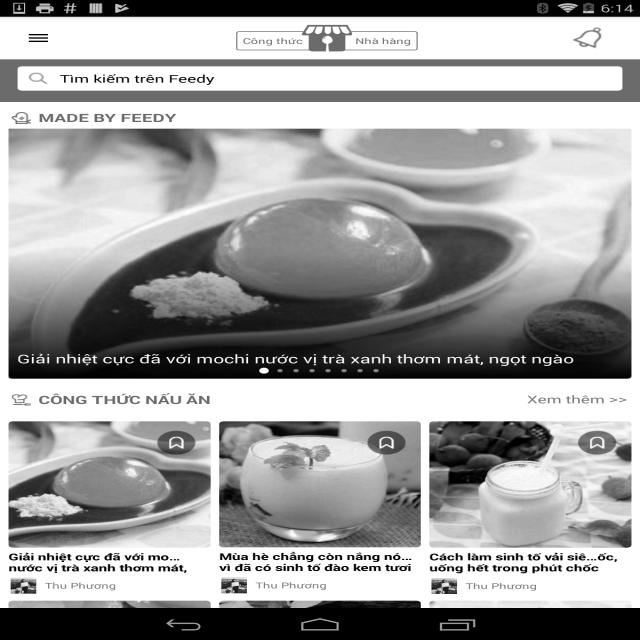EditText: (51, 66, 623, 91)
ImageButton: (9, 17, 68, 59)
ImageView: (9, 128, 632, 378), (429, 421, 632, 548), (8, 421, 210, 548), (219, 422, 421, 548), (8, 600, 210, 640), (429, 600, 631, 640), (219, 600, 420, 640), (300, 17, 354, 59), (151, 426, 202, 458), (361, 426, 412, 458), (572, 426, 623, 458), (151, 606, 202, 638), (361, 606, 412, 638), (572, 606, 623, 638), (568, 27, 606, 49), (221, 578, 247, 594), (26, 70, 51, 86), (9, 110, 34, 126), (9, 392, 34, 408), (11, 578, 36, 594), (432, 578, 457, 594)
TextView: (9, 128, 632, 378), (38, 110, 628, 125), (38, 392, 527, 407), (6, 549, 213, 575), (427, 549, 634, 575), (217, 548, 423, 574), (466, 580, 629, 592), (45, 580, 208, 591), (236, 31, 327, 50), (327, 31, 418, 50), (256, 580, 418, 590), (527, 392, 627, 408)
